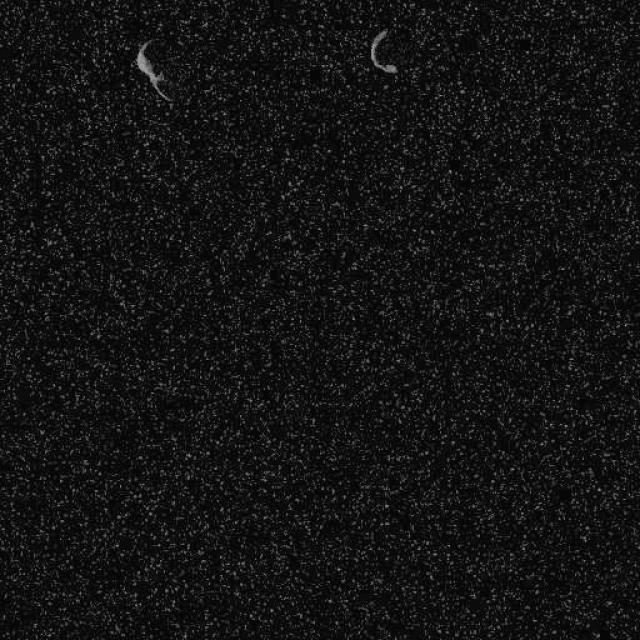D2: (134, 36, 175, 104), (368, 27, 398, 75)
